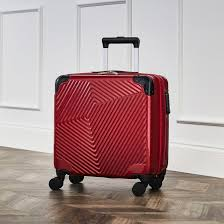suitcase: (44, 34, 172, 196)
